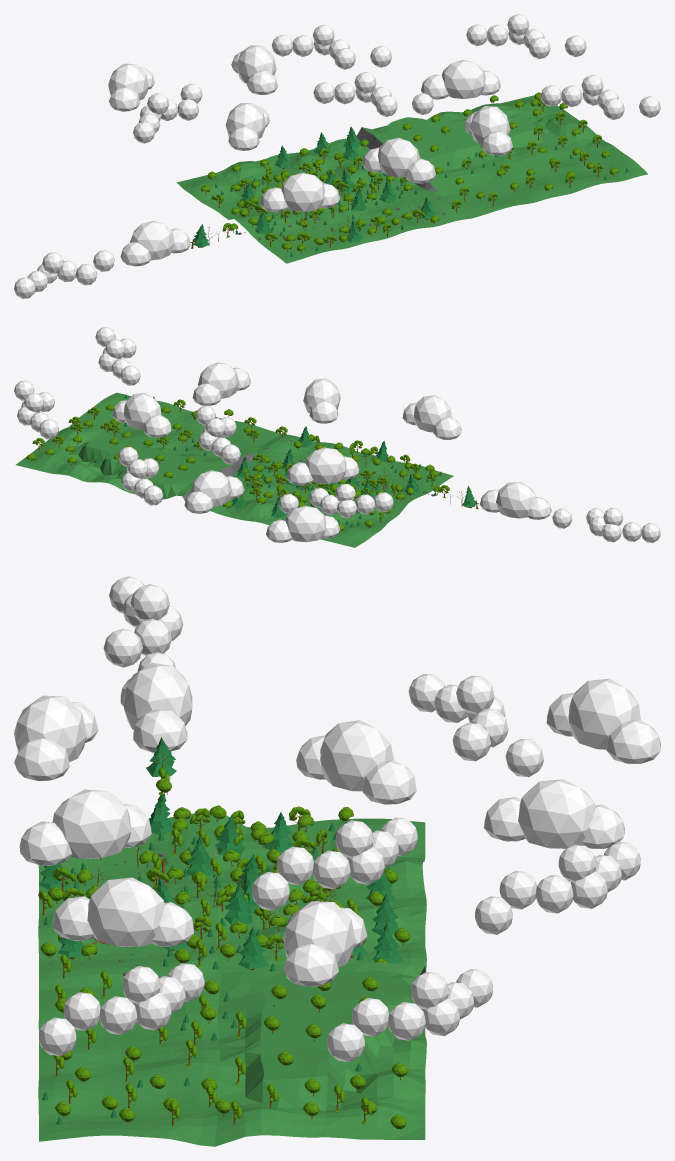
The model's file is les001.glb.
The picture shows the model from 3 angles, top to bottom: view 1: azimuth 30°, elevation 25°; view 2: azimuth 150°, elevation 25°; view 3: azimuth 270°, elevation 25°; orthographic projection. The views are drawn at different scales.
Parts seen in each view (by area): view 1: Plane, Object_68.007, Object_76.005, Object_76.003, Object_76.006, Object_76.001, Object_76.004, Object_68.008, Object_68.005, Object_68.001, Object_76.002, Object_68.006 (+3 smaller); view 2: Plane, Object_76.002, Object_76.001, Object_68.004, Object_68.002, Object_68.001, Object_68.003, Object_68.006, Object_68.007, Object_68.008, Object_76.003, Object_76.005 (+3 smaller); view 3: Plane, Object_76.003, Object_76.005, Object_76.004, Object_76.006, Object_68.006, Object_68.003, Object_68.005, Object_68.002, Object_76.002, Object_68.004, Object_68.007 (+3 smaller).
Part boxes in pixels (<box>): Plane: <box>176,95,647,263</box>; Object_68.007: <box>260,172,340,212</box>; Object_76.005: <box>540,75,660,119</box>; Object_76.003: <box>271,24,391,69</box>; Object_76.006: <box>466,14,586,58</box>; Object_76.001: <box>14,250,114,298</box>; Object_76.004: <box>313,72,433,116</box>; Object_68.008: <box>421,60,500,99</box>; Object_68.005: <box>362,137,435,183</box>; Object_68.001: <box>120,220,190,266</box>; Object_76.002: <box>133,83,202,143</box>; Object_68.006: <box>464,106,512,155</box>; Plane: <box>15,392,453,547</box>; Object_76.002: <box>278,483,393,518</box>; Object_76.001: <box>552,507,660,542</box>; Object_68.004: <box>266,505,340,542</box>; Object_68.002: <box>286,447,359,485</box>; Object_68.001: <box>480,482,551,519</box>; Object_68.003: <box>184,470,244,513</box>; Object_68.006: <box>192,362,250,405</box>; Object_68.007: <box>402,395,461,439</box>; Object_68.008: <box>112,393,171,437</box>; Object_76.003: <box>118,447,163,505</box>; Object_76.005: <box>95,327,140,385</box>; Plane: <box>38,813,426,1146</box>; Object_76.003: <box>475,841,640,934</box>; Object_76.005: <box>39,963,204,1056</box>; Object_76.004: <box>252,817,417,910</box>; Object_76.006: <box>327,969,492,1061</box>; Object_68.006: <box>52,877,193,946</box>; Object_68.003: <box>484,779,624,848</box>; Object_68.005: <box>19,789,151,865</box>; Object_68.002: <box>296,720,416,804</box>; Object_76.002: <box>408,674,543,777</box>; Object_68.004: <box>546,678,660,764</box>; Object_68.007: <box>14,695,98,780</box>.
Size of the model in its own units: 1415 by 198 by 704.
